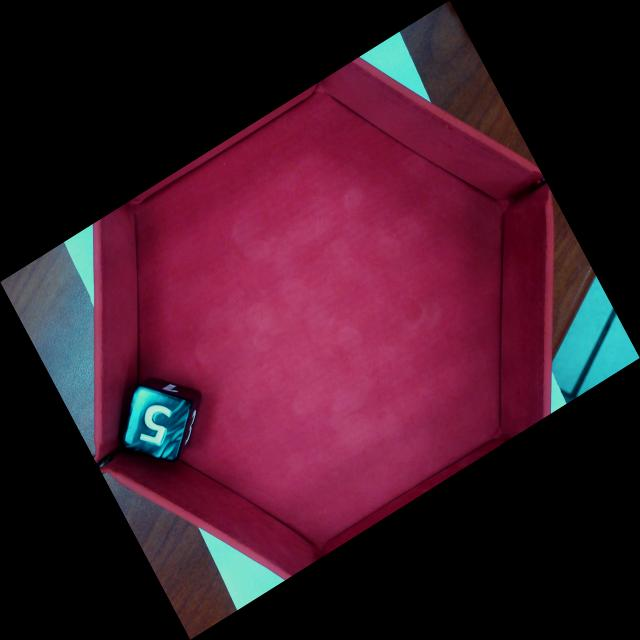dice: (118, 383, 194, 466)
